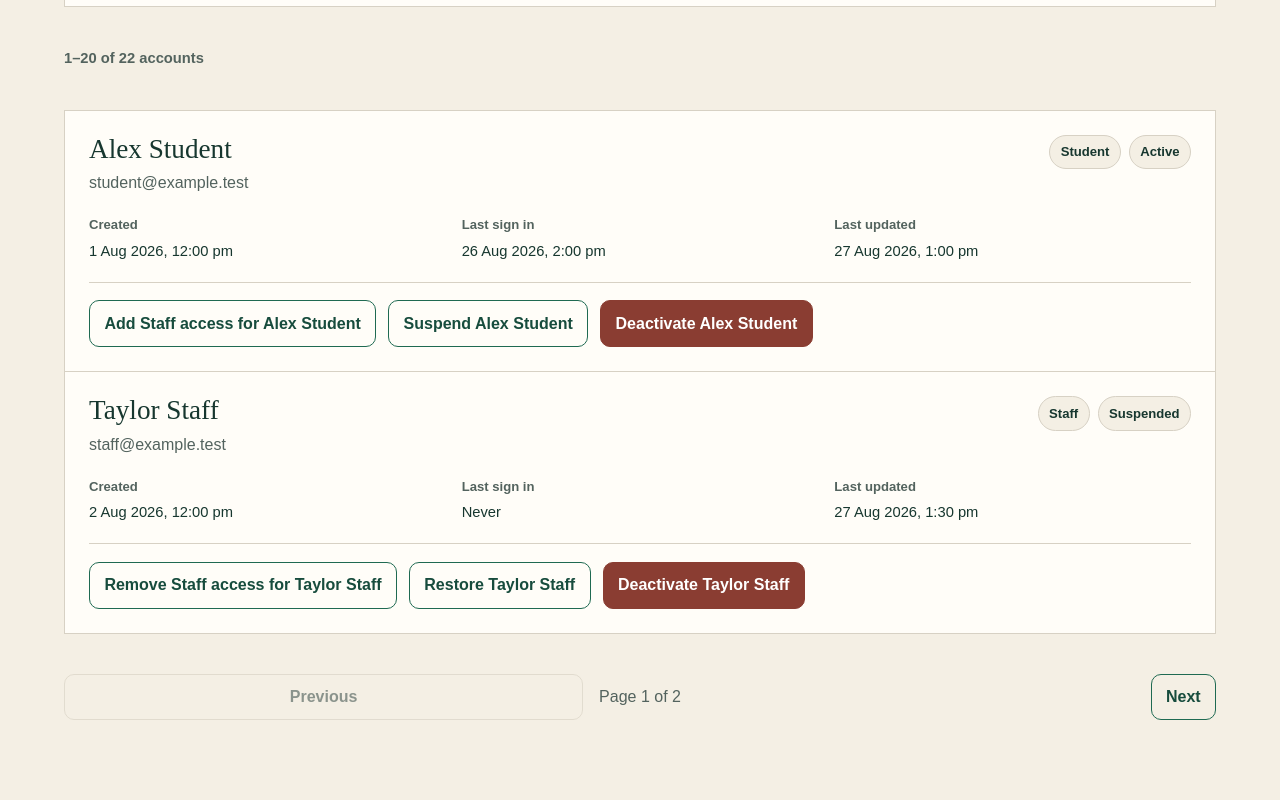
Test case: uses validated pagination bounds and accessible names
(page scrolled)
Expected: the heading "Alex Student" is shown, [89, 135, 248, 165]
Expected: the button with aria-label "Previous page" is disabled, [64, 674, 583, 720]
Click the button with aria-label "Next page, page 2": (1183, 697) [1150, 674, 1216, 720]
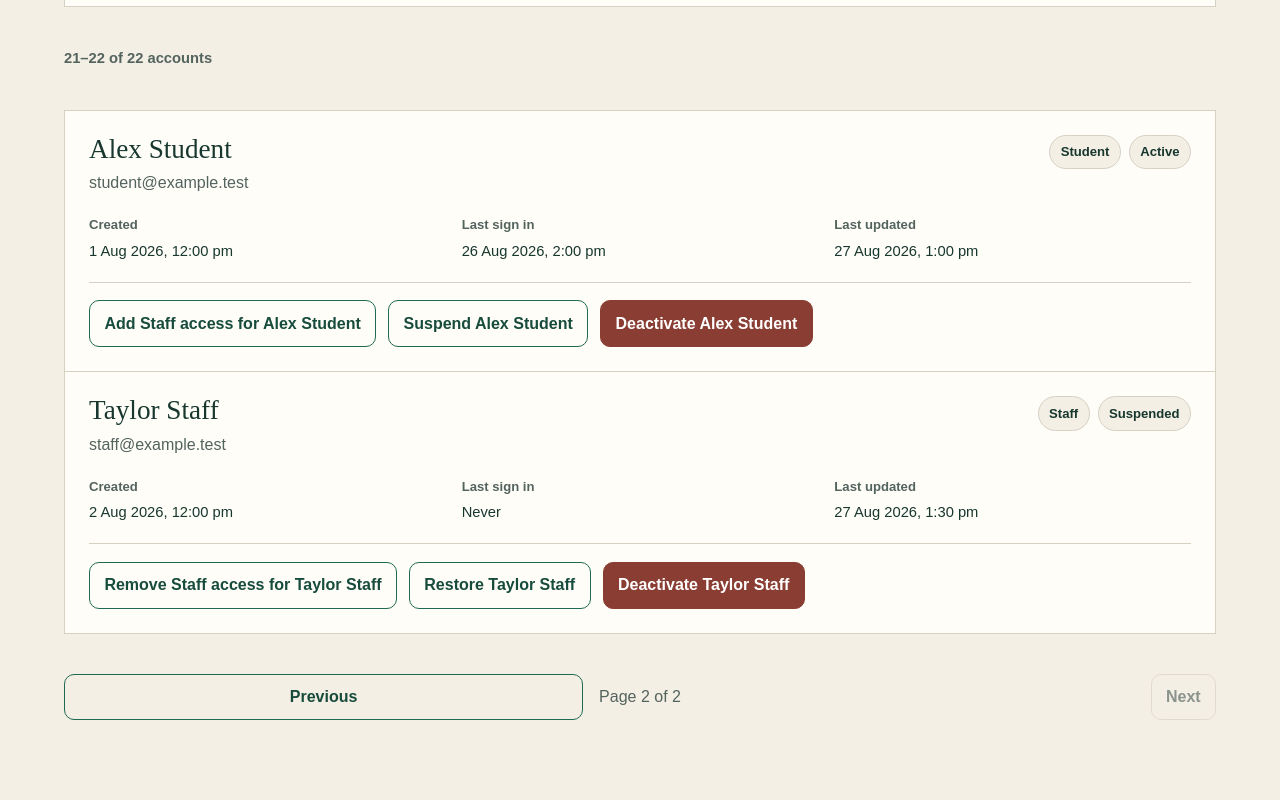
Result: the button with aria-label "Previous page, page 1" is shown at [64, 674, 583, 720]
Result: the button with aria-label "Next page" is disabled at [1150, 674, 1216, 720]
